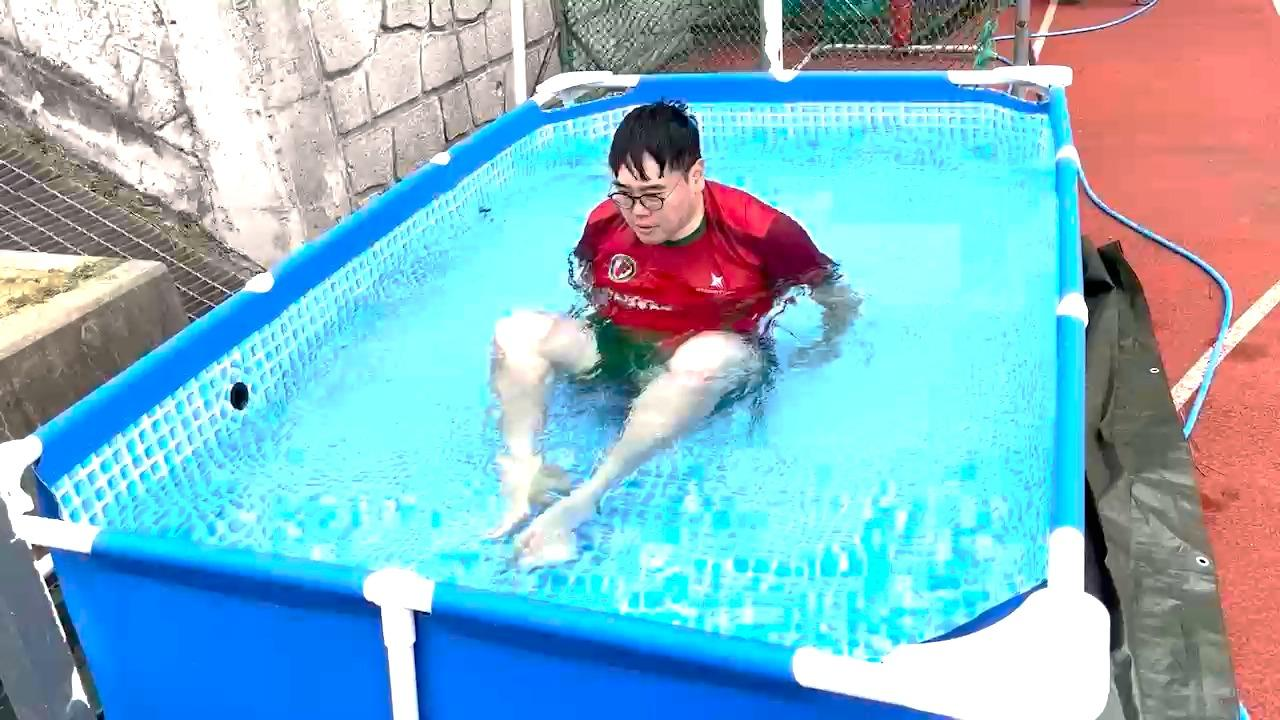Swimming: (438, 63, 867, 545)
